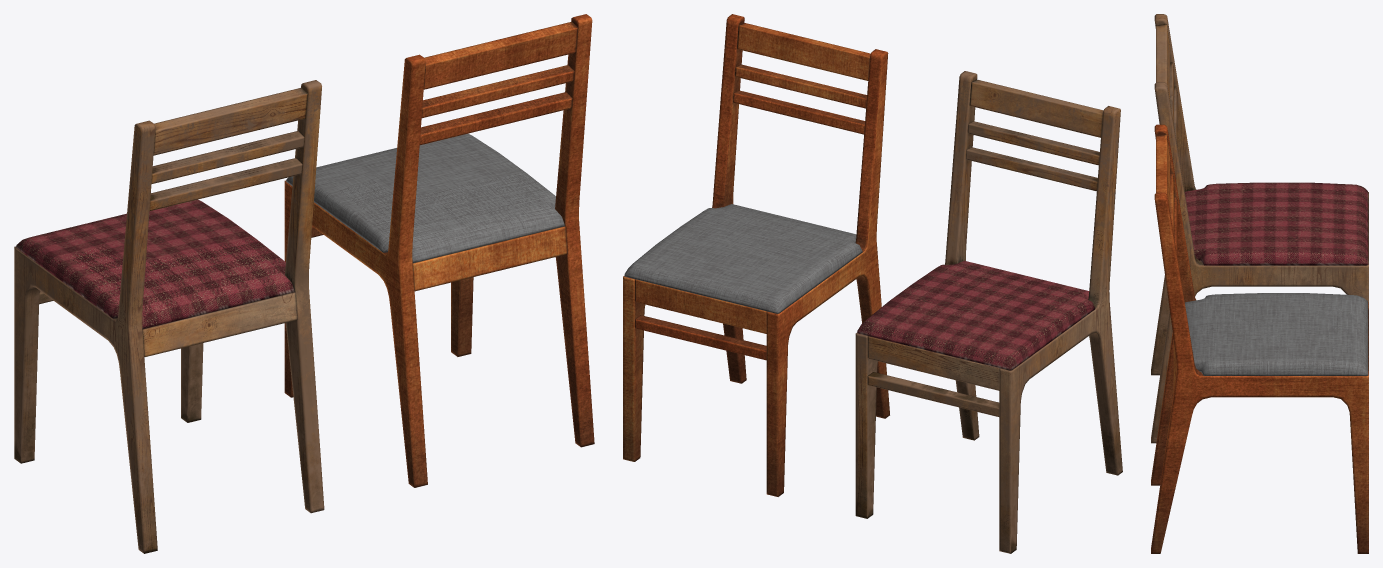
The model's file is chair1.glb.
The picture shows the model from 3 angles, left to right: view 1: azimuth 30°, elevation 25°; view 2: azimuth 150°, elevation 25°; view 3: azimuth 270°, elevation 25°; orthographic projection. The views are drawn at different scales.
Parts seen in each view (by area): view 1: chair_0001, chair_0001.001; view 2: chair_0001, chair_0001.001; view 3: chair_0001.001, chair_0001.
Boxes of the visible parts, x1,y1,x2,y2 form: chair_0001: (14,80,324,553); chair_0001.001: (284,14,594,487); chair_0001: (855,71,1122,553); chair_0001.001: (623,14,889,496); chair_0001.001: (1151,124,1368,553); chair_0001: (1151,14,1368,443).
Bounding box in the file's own units: 100 × 90.04 × 50.
2 materials, 2 textured.
